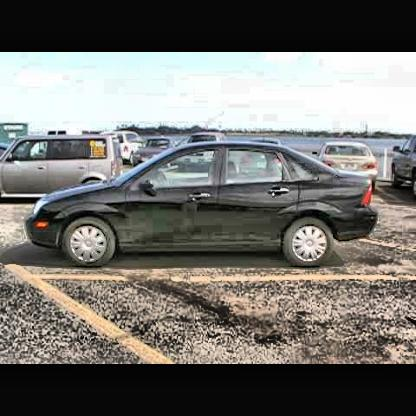Ford Focus Sedan 2007: (26, 141, 378, 270)
